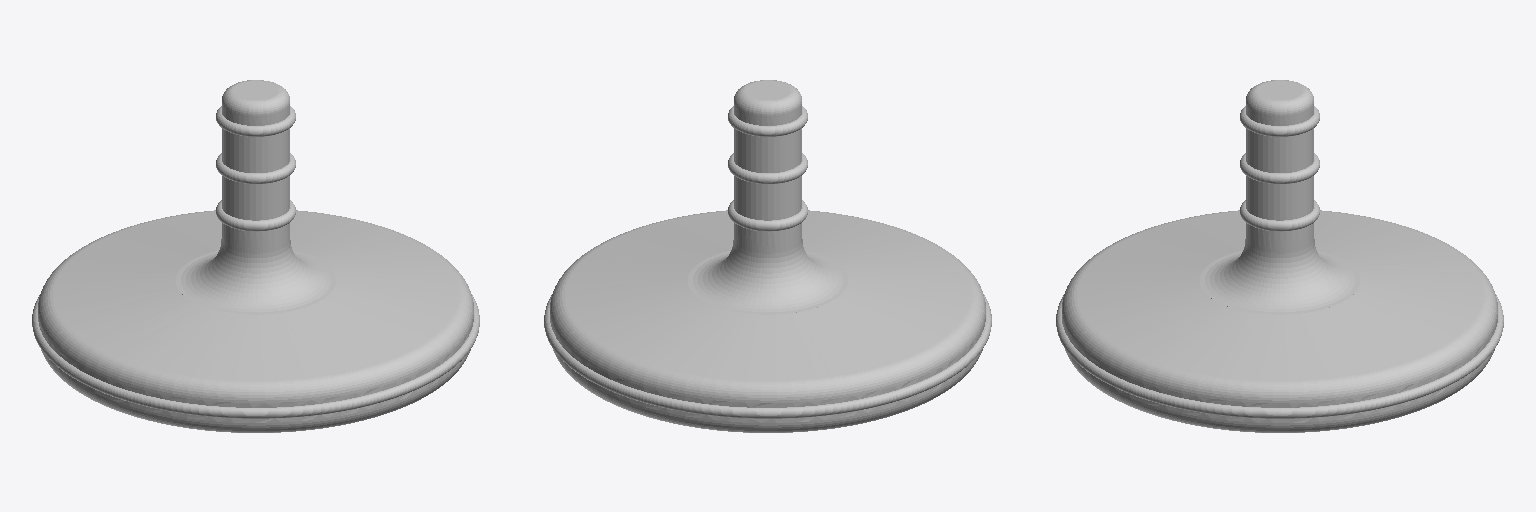
The model's file is top.obj.
The picture shows the model from 3 angles: view 1: azimuth 30°, elevation 25°; view 2: azimuth 150°, elevation 25°; view 3: azimuth 270°, elevation 25°; orthographic projection.
Parts seen in each view (by area): view 1: Spinning_Top; view 2: Spinning_Top; view 3: Spinning_Top.
Part boxes in pixels (x1,y1,x2,y2): Spinning_Top: (32, 80, 479, 432); Spinning_Top: (544, 80, 991, 432); Spinning_Top: (1056, 80, 1503, 432).
Bounding box in the file's own units: 39 × 31.75 × 39.